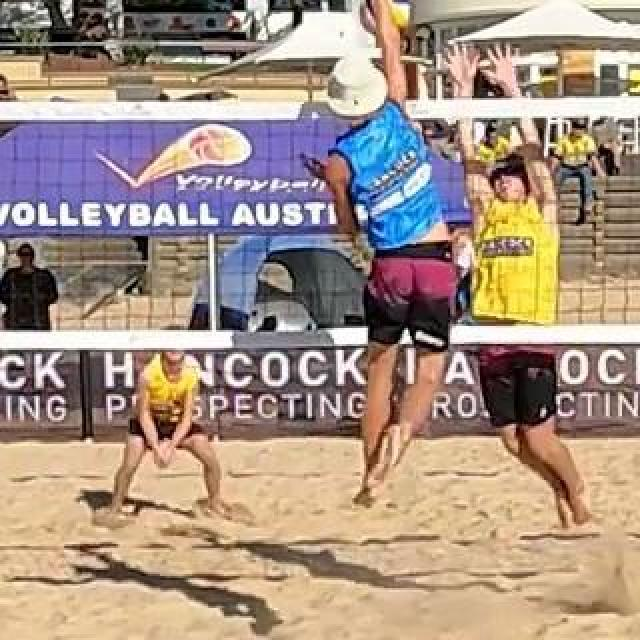volleyball: (358, 0, 410, 34)
